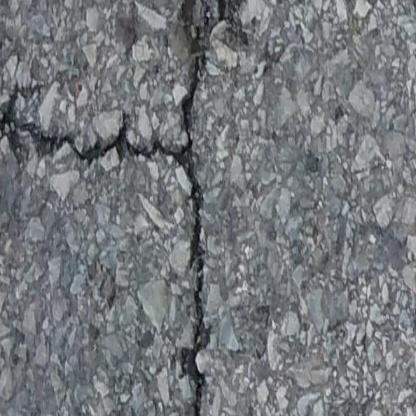Cracks: (0, 0, 252, 416), (333, 0, 361, 6)
